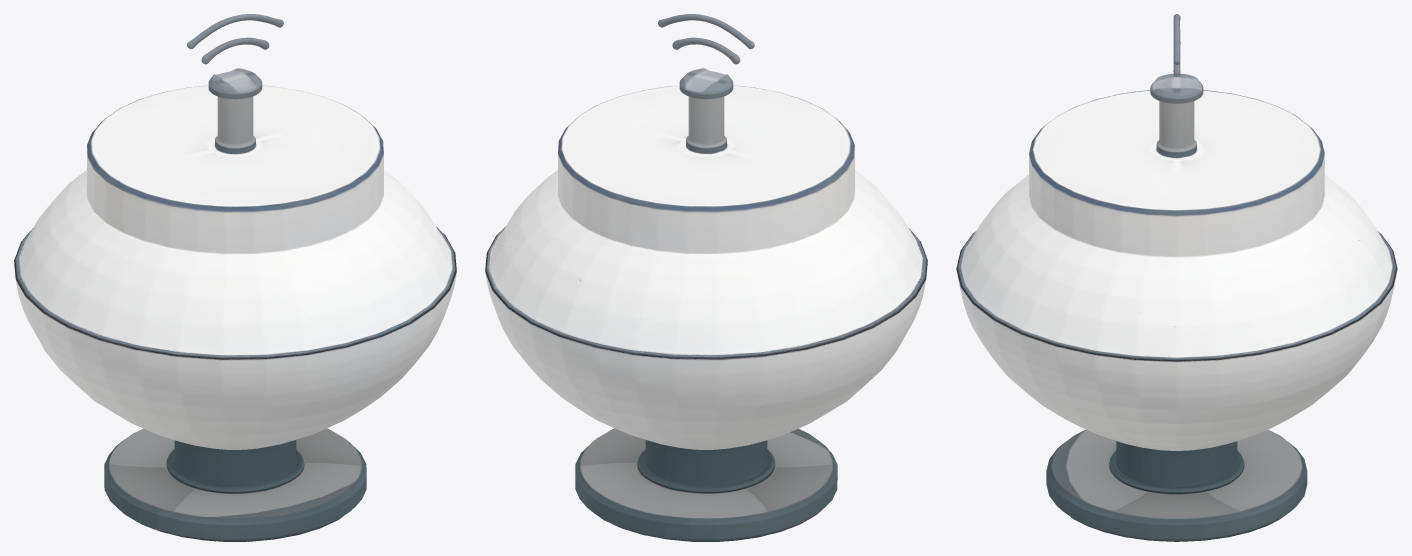
The model's file is Middlepart.glb.
3 views of the same model, side by side, from view 1: azimuth 30°, elevation 25°; view 2: azimuth 150°, elevation 25°; view 3: azimuth 270°, elevation 25° (orthographic).
Visible parts, largest first — view 1: model; view 2: model; view 3: model.
Boxes of the visible parts, box(x1,y1,x2,y2) form: model: box(14, 14, 456, 541); model: box(485, 14, 927, 541); model: box(956, 14, 1397, 541).
Bounding box in the file's own units: 1.62 × 1.9 × 1.63.
Materials: 1 (1 with a texture image).
